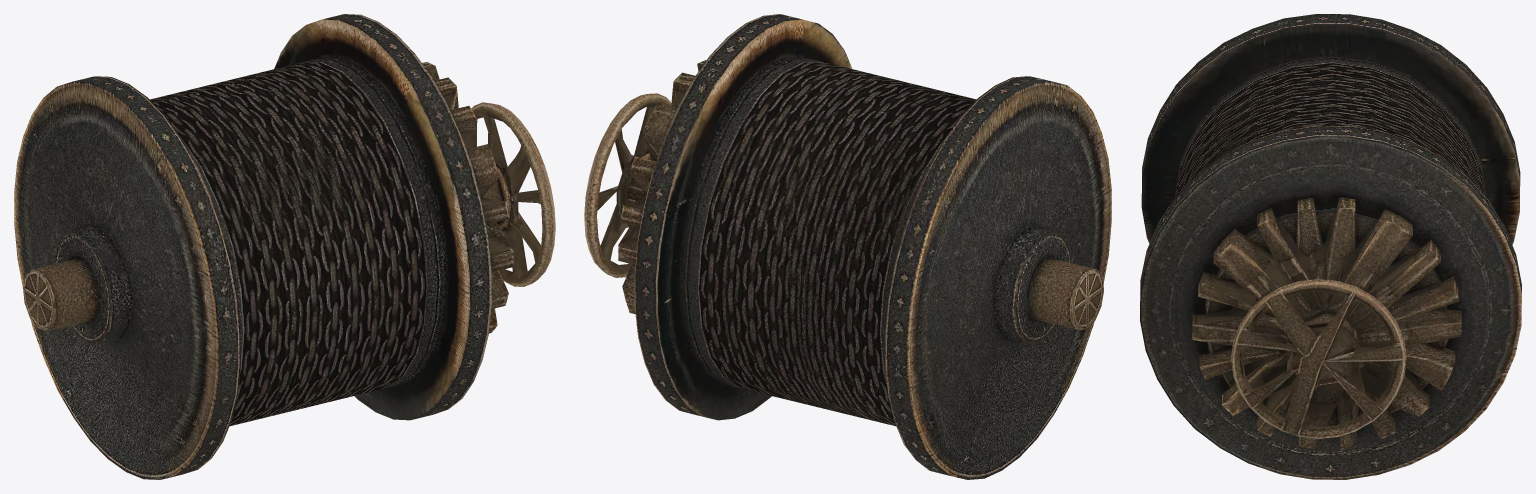
File: ignivar_prop_lift_spool.glb
The picture shows the model from 3 angles, left to right: view 1: azimuth 30°, elevation 25°; view 2: azimuth 150°, elevation 25°; view 3: azimuth 270°, elevation 25°; orthographic projection. The views are drawn at different scales.
Parts seen in each view (by area): view 1: lift_spool; view 2: lift_spool; view 3: lift_spool.
Part boxes in pixels (x1,y1,x2,y2): lift_spool: (14,14,555,479); lift_spool: (584,14,1111,479); lift_spool: (1140,14,1521,479).
Bounding box in the file's own units: 0.9995 × 0.7563 × 0.7612.
Materials: 1 (1 with a texture image).
